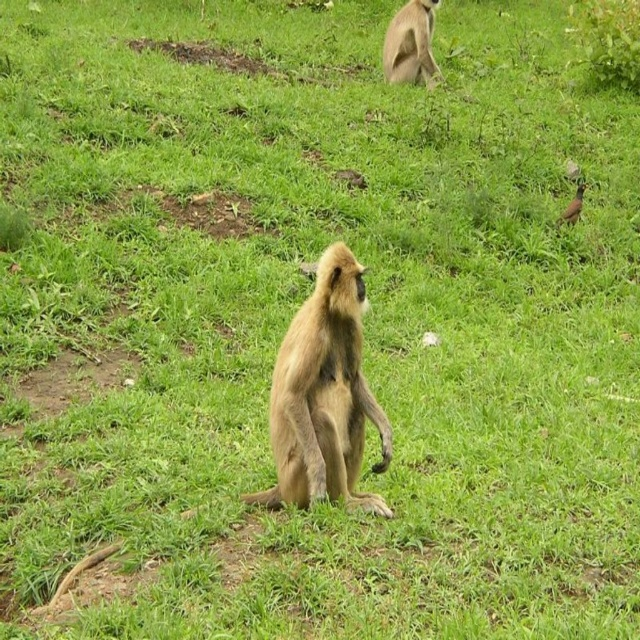Monkey: (54, 243, 394, 598), (382, 0, 459, 86)
